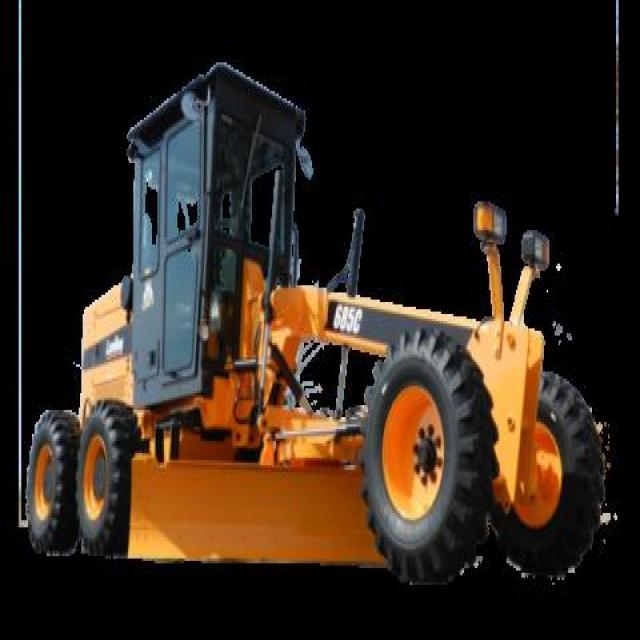Grader: (8, 43, 639, 638)
